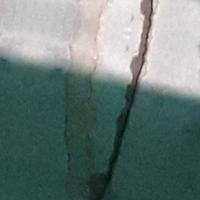crack: (86, 0, 160, 199)
